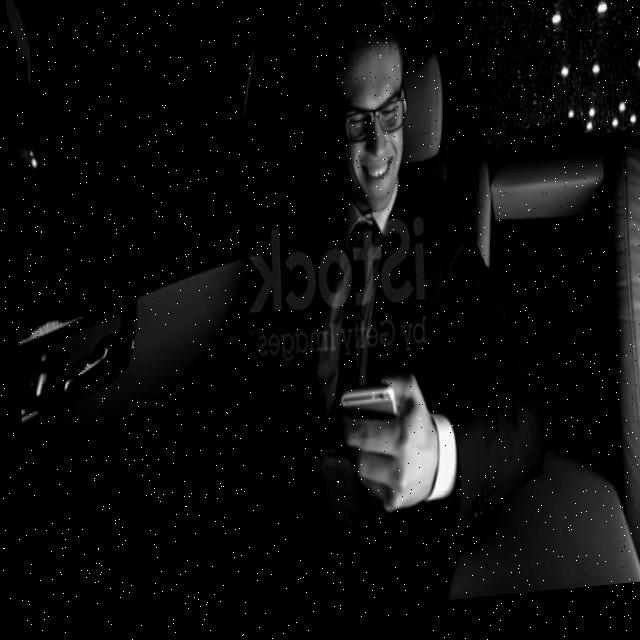PhoneCall: (334, 389, 399, 505)
